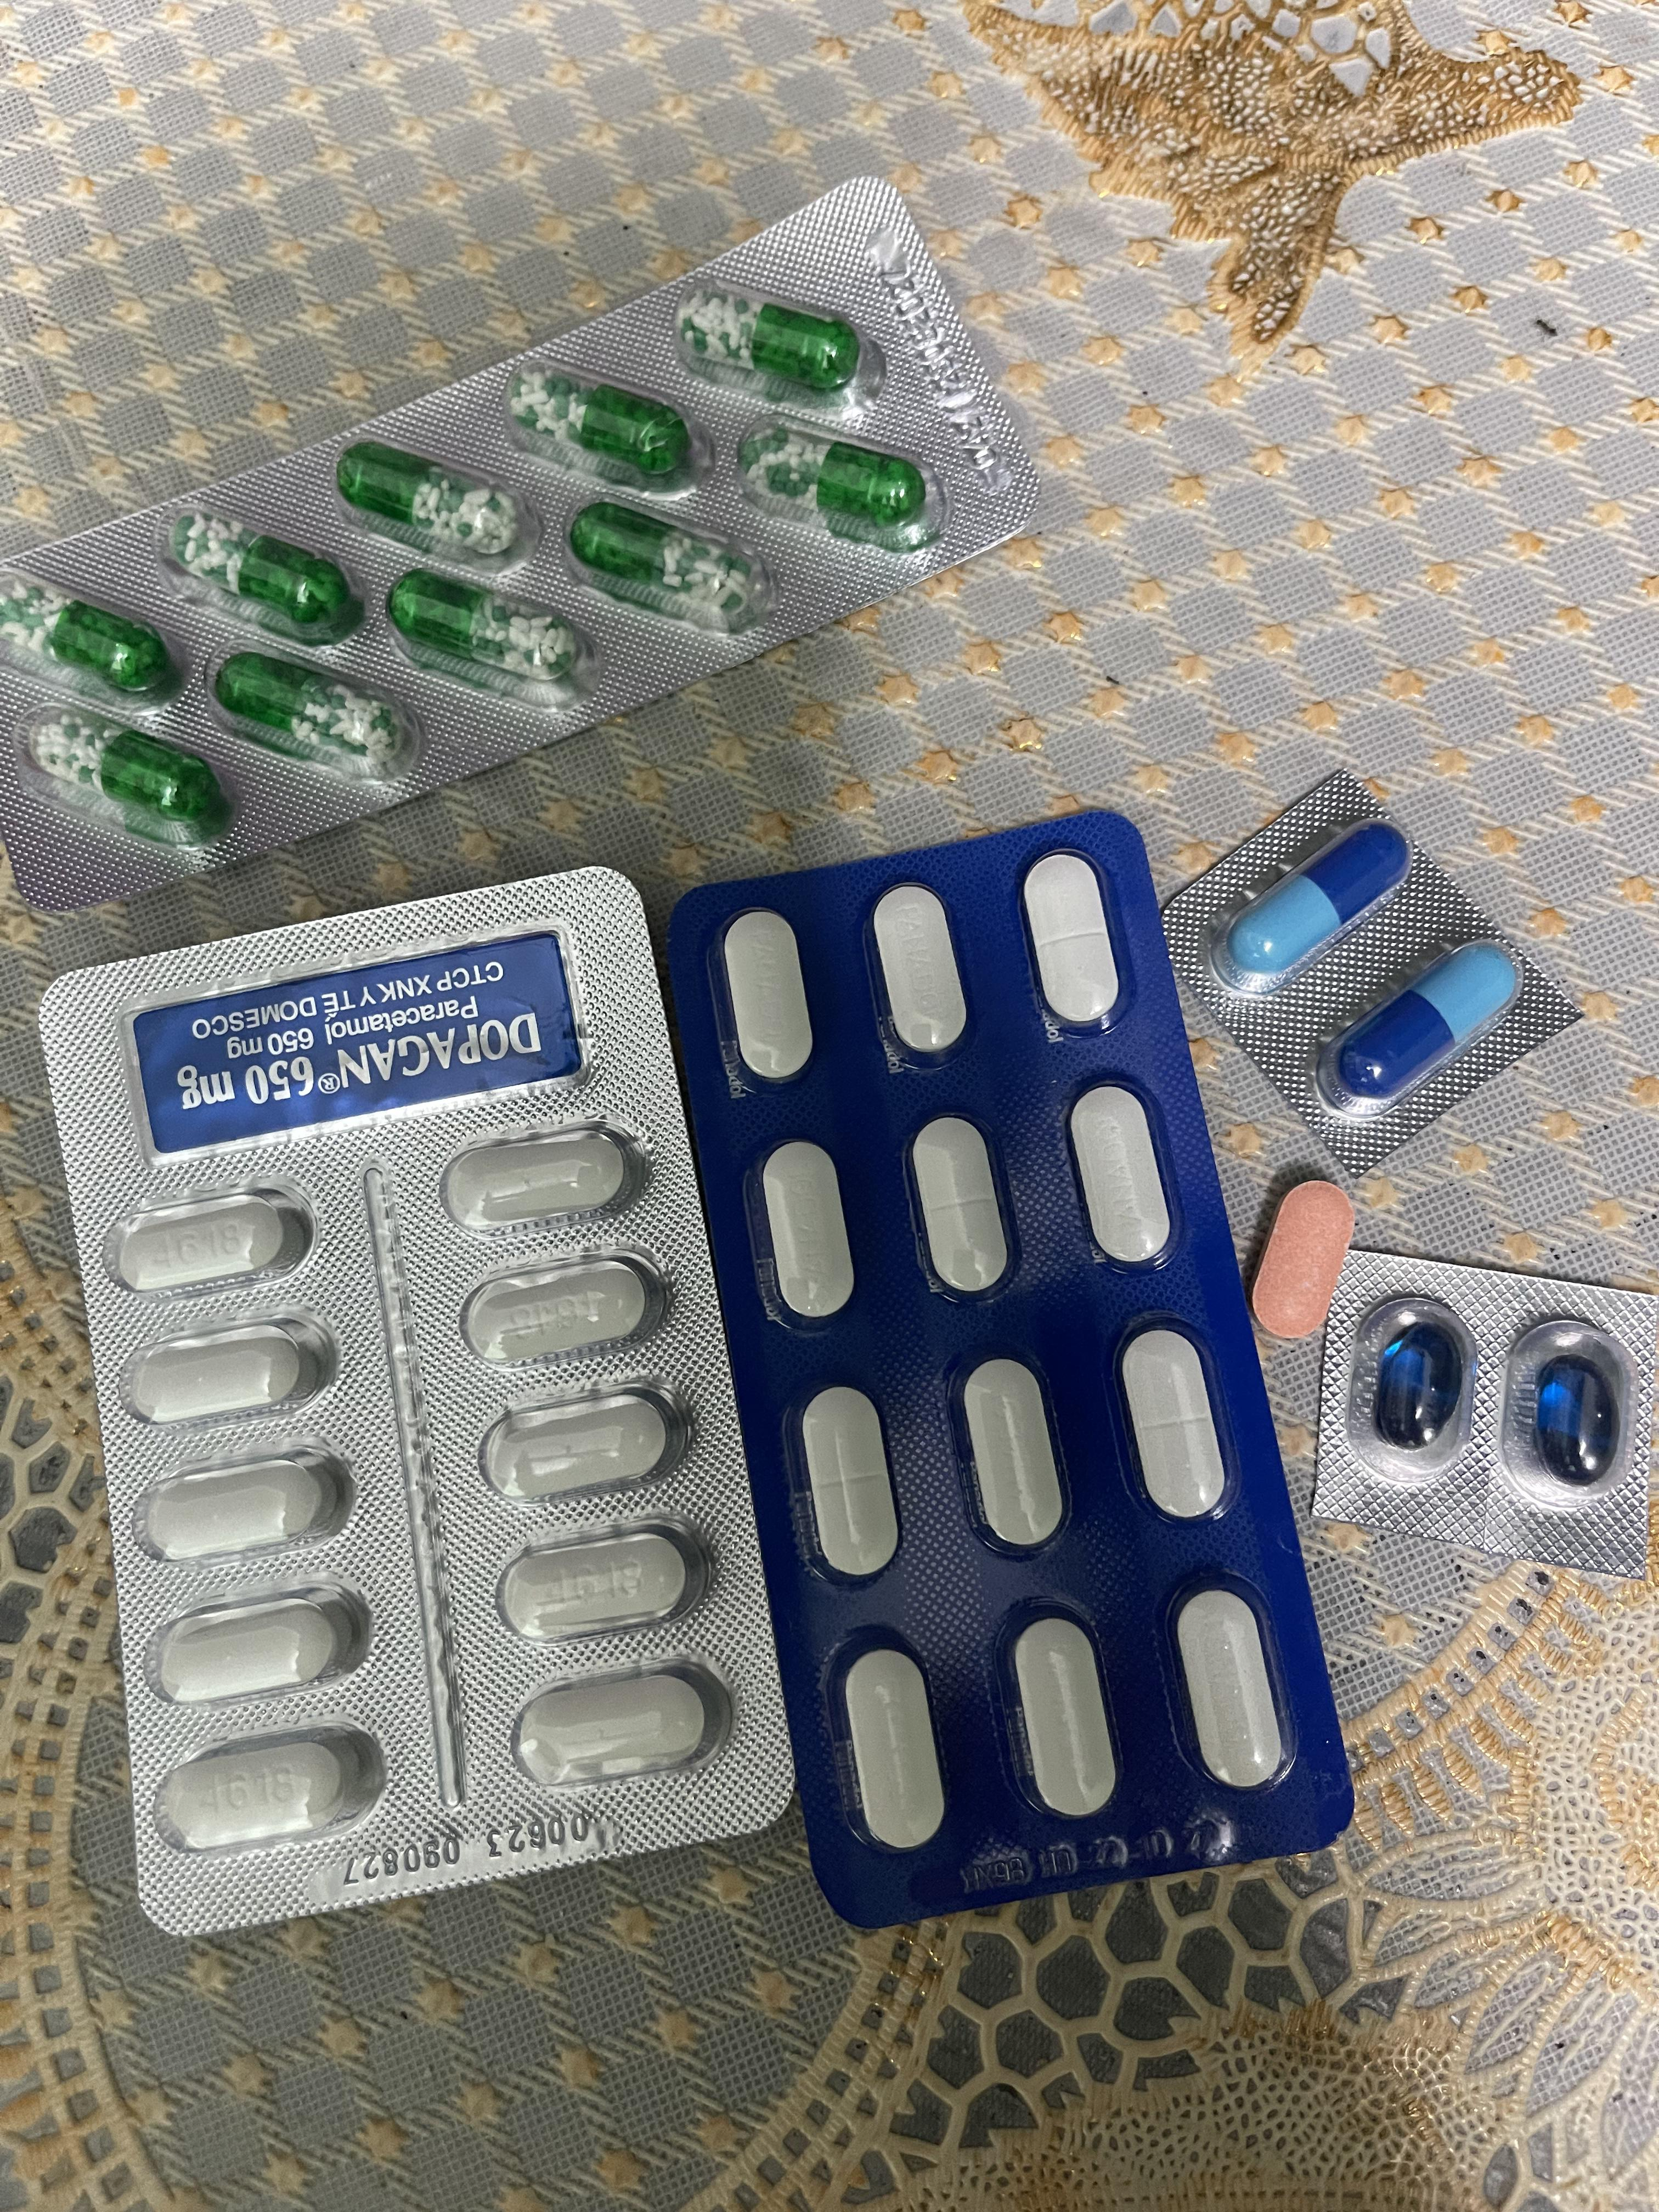Lincomyxin_500mg: (1371, 1320, 1464, 1451), (1530, 1355, 1617, 1486)
Loratadine_10mg: (1249, 1179, 1356, 1338)
Paracetamol_350mg: (824, 1630, 950, 1860), (1164, 1576, 1291, 1797), (1112, 1313, 1236, 1527), (1006, 1613, 1119, 1824), (957, 1355, 1070, 1554), (795, 1386, 901, 1587), (1066, 1087, 1175, 1271), (906, 1118, 1012, 1301), (870, 883, 971, 1062), (1021, 853, 1124, 1029), (756, 1141, 854, 1325), (716, 911, 812, 1089)
Paracetamol_500mg: (152, 1719, 389, 1857), (509, 1656, 732, 1794), (145, 1580, 373, 1709), (131, 1437, 354, 1561), (493, 1519, 706, 1648), (477, 1378, 688, 1507), (120, 1312, 336, 1428), (455, 1249, 667, 1366), (103, 1179, 315, 1294), (437, 1122, 641, 1235)
Paracetamol_650mg: (159, 507, 371, 646), (0, 570, 183, 709), (26, 719, 234, 840), (389, 571, 587, 695), (572, 502, 769, 625), (213, 655, 410, 777), (338, 442, 528, 559), (741, 428, 927, 543), (511, 374, 690, 479), (687, 291, 857, 392)
pill: (1220, 820, 1412, 988), (1342, 942, 1520, 1101)
